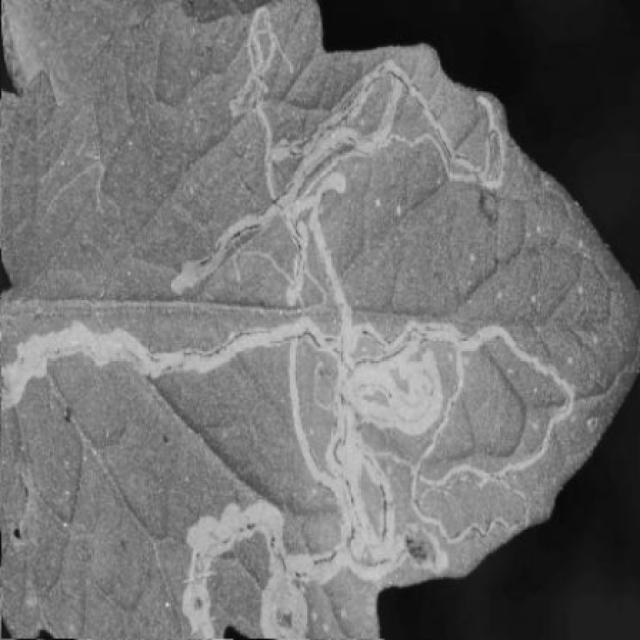Leaf Miner: (1, 0, 640, 639)
